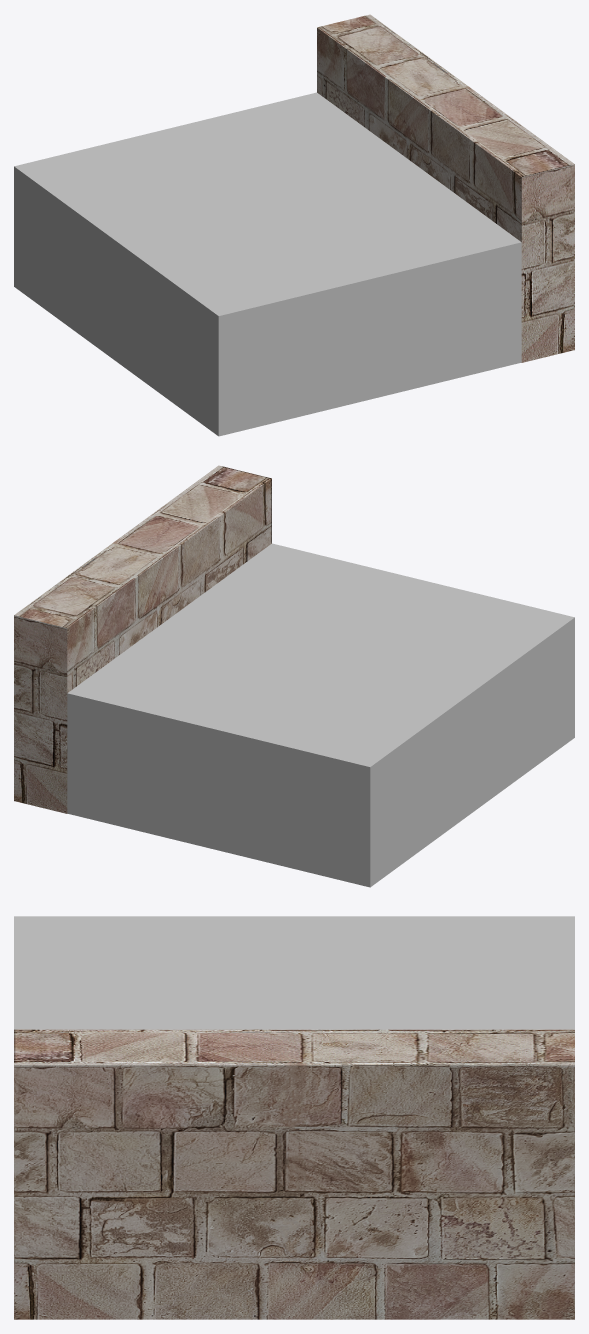
The model's file is 2x2 dirt w wall.fbx.
The picture shows the model from 3 angles, top to bottom: view 1: azimuth 30°, elevation 25°; view 2: azimuth 150°, elevation 25°; view 3: azimuth 270°, elevation 25°; orthographic projection. The views are drawn at different scales.
Parts seen in each view (by area): view 1: Planterbox_2x2; view 2: Planterbox_2x2; view 3: Planterbox_2x2.
Part boxes in pixels (left/top/right/bottom): Planterbox_2x2: left=14, top=14, right=574, bottom=436; Planterbox_2x2: left=14, top=465, right=574, bottom=887; Planterbox_2x2: left=14, top=916, right=574, bottom=1319.
Size of the model in its own units: 2.01 by 1 by 2.
